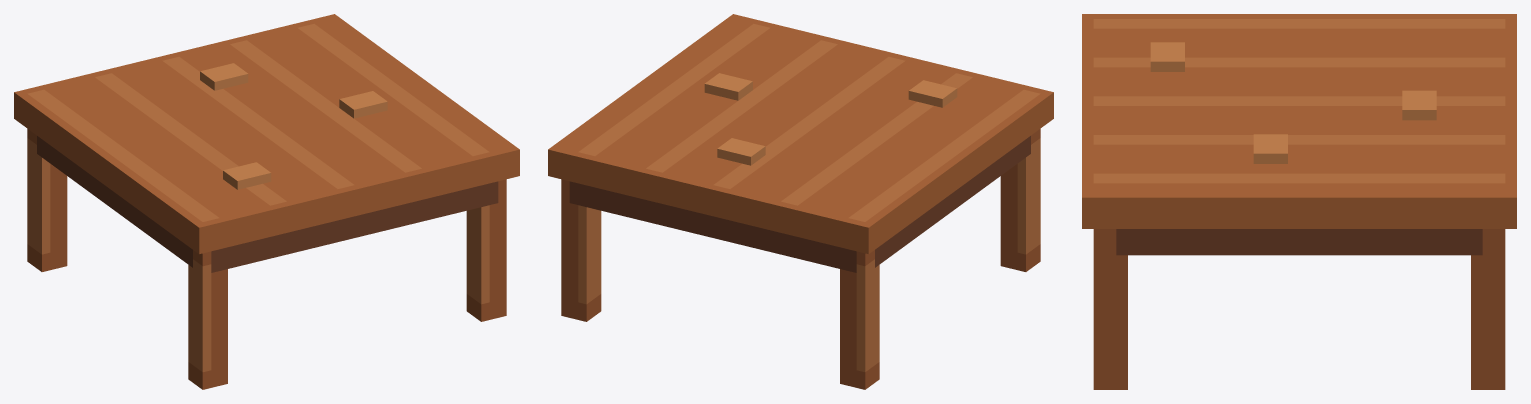
Rendered from DiningTable_2x2.fbx.
3 views of the same model, side by side, from view 1: azimuth 30°, elevation 25°; view 2: azimuth 150°, elevation 25°; view 3: azimuth 270°, elevation 25° (orthographic). The views are drawn at different scales.
Visible parts, largest first — view 1: Tabletop, Tabletop_Planks, Square_Posts, Square_Post_Tips, Table_Apron_Front, Table_Apron_Sides, Subtle_Wood_Pixels; view 2: Tabletop, Tabletop_Planks, Square_Posts, Square_Post_Tips, Table_Apron_Back, Table_Apron_Sides, Subtle_Wood_Pixels; view 3: Tabletop, Tabletop_Planks, Square_Posts, Table_Apron_Sides, Subtle_Wood_Pixels.
Part boxes in pixels (x1=…): Tabletop: x1=14, y1=14, x2=519, y2=254; Tabletop_Planks: x1=27, y1=24, x2=489, y2=221; Square_Posts: x1=27, y1=129, x2=506, y2=389; Square_Post_Tips: x1=27, y1=138, x2=489, y2=371; Table_Apron_Front: x1=211, y1=181, x2=498, y2=272; Table_Apron_Sides: x1=37, y1=136, x2=192, y2=267; Subtle_Wood_Pixels: x1=200, y1=63, x2=387, y2=189; Tabletop: x1=548, y1=14, x2=1053, y2=254; Tabletop_Planks: x1=578, y1=24, x2=1040, y2=221; Square_Posts: x1=561, y1=129, x2=1040, y2=389; Square_Post_Tips: x1=578, y1=138, x2=1040, y2=371; Table_Apron_Back: x1=569, y1=181, x2=856, y2=272; Table_Apron_Sides: x1=875, y1=136, x2=1030, y2=267; Subtle_Wood_Pixels: x1=704, y1=73, x2=957, y2=165; Tabletop: x1=1082, y1=14, x2=1516, y2=228; Tabletop_Planks: x1=1093, y1=19, x2=1505, y2=183; Square_Posts: x1=1093, y1=229, x2=1505, y2=389; Table_Apron_Sides: x1=1116, y1=229, x2=1482, y2=255; Subtle_Wood_Pixels: x1=1150, y1=42, x2=1436, y2=163.
Bounding box in the file's own units: 190 × 100 × 190.
